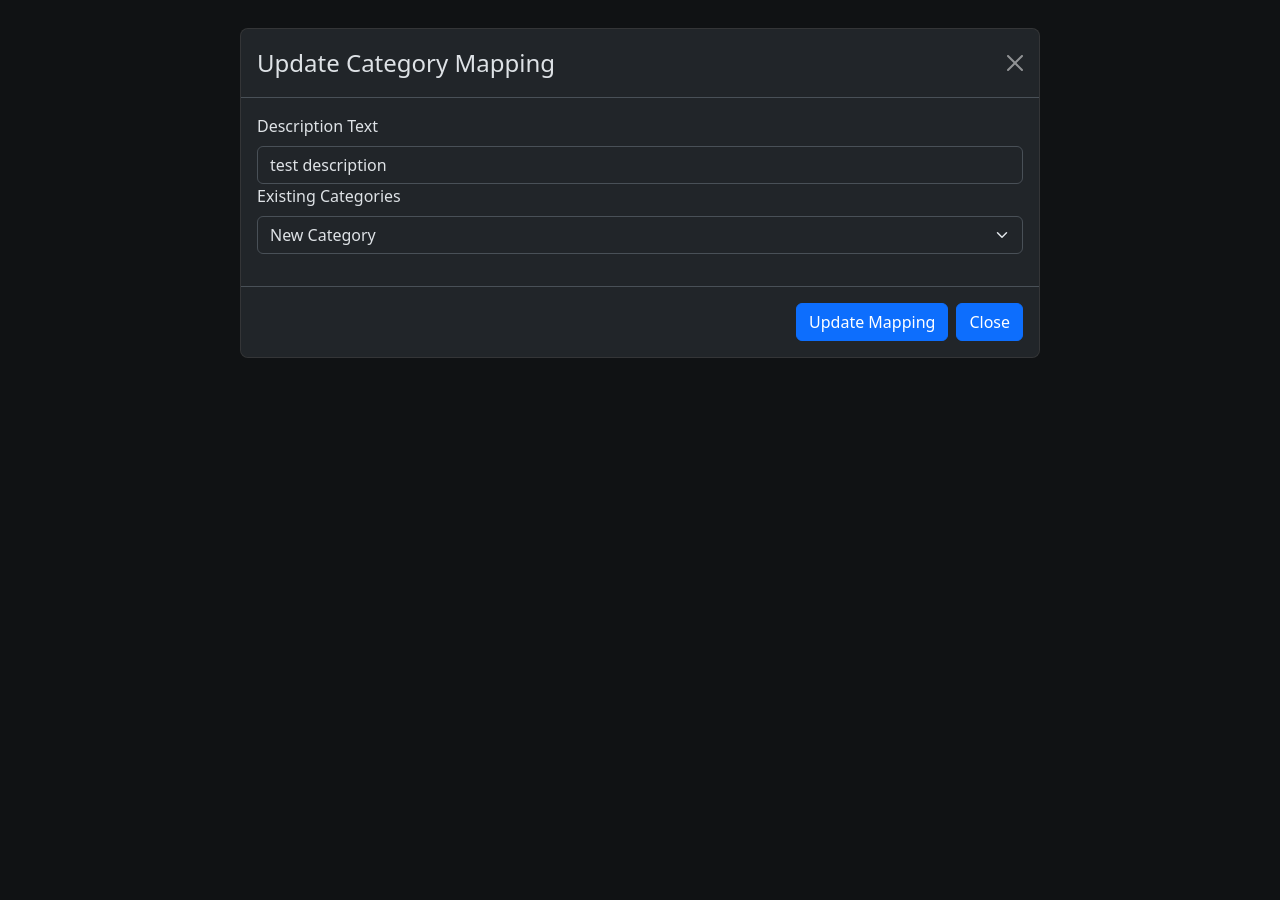
Test: should show new category input box when new category is selected
Select "New Category" in the list named "category" at {"x": 640, "y": 235}, box [257,216,1023,254]
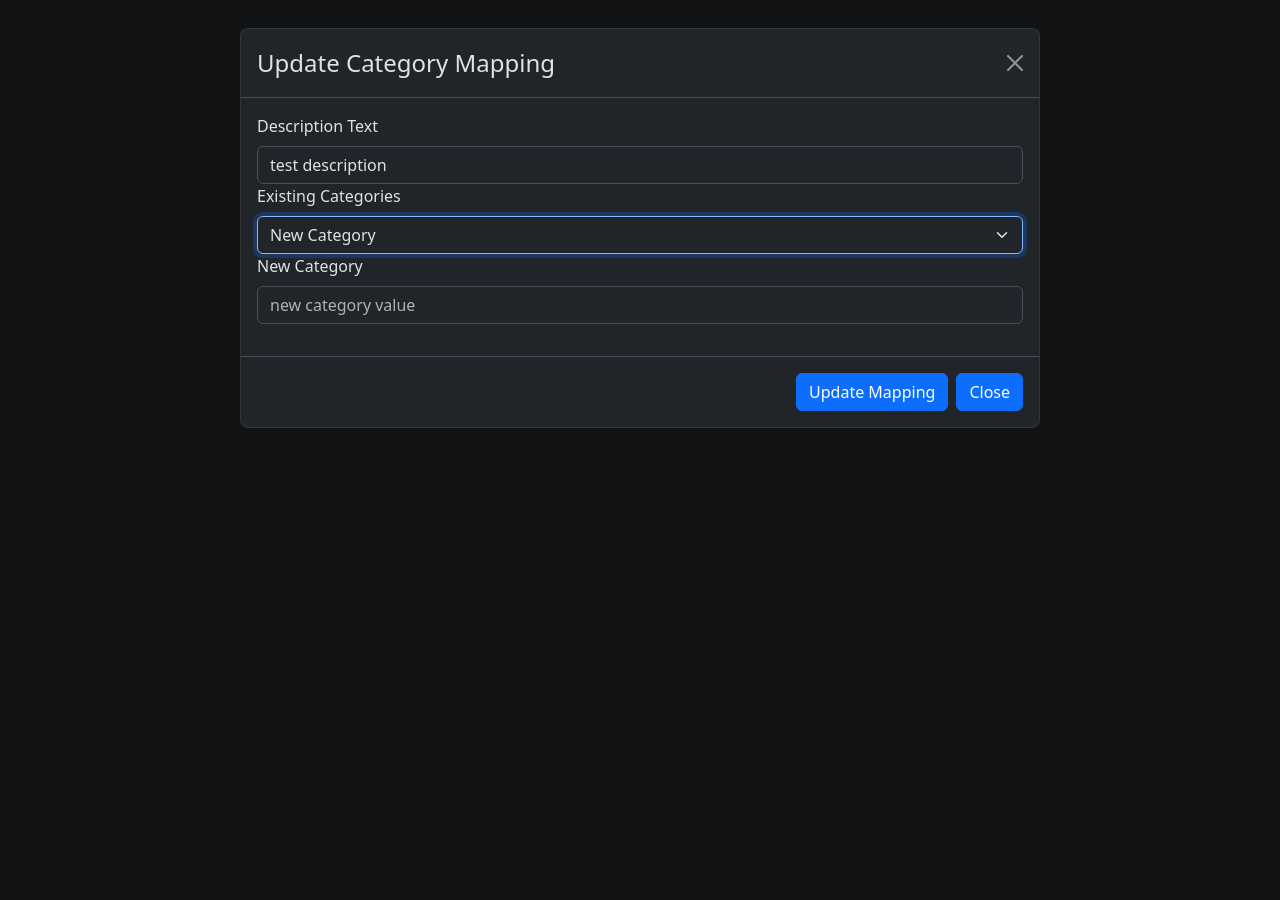
Now the field labelled "new category value" is shown, box [257,286,1023,324]
